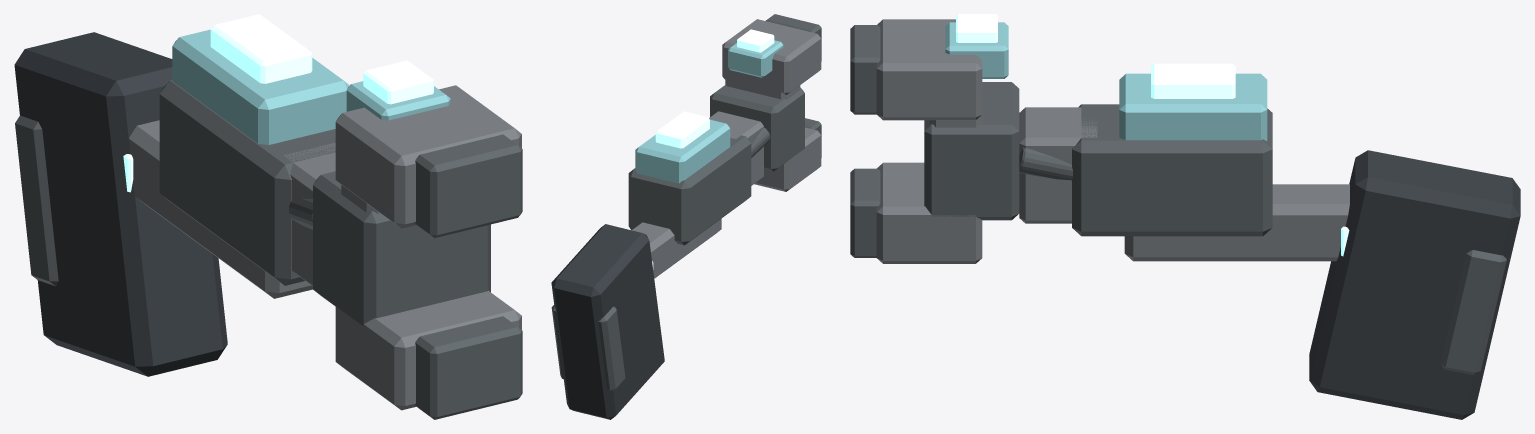
The model's file is FTF_Tool_RepairWrench_Tech_v2.glb.
The picture shows the model from 3 angles, left to right: view 1: azimuth 30°, elevation 25°; view 2: azimuth 150°, elevation 25°; view 3: azimuth 270°, elevation 25°; orthographic projection. The views are drawn at different scales.
Parts seen in each view (by area): view 1: FTF_Tool_RepairWrench_Tech_v2_Static; view 2: FTF_Tool_RepairWrench_Tech_v2_Static; view 3: FTF_Tool_RepairWrench_Tech_v2_Static.
Boxes of the visible parts, x1,y1,x2,y2 form: FTF_Tool_RepairWrench_Tech_v2_Static: (14,14,522,419); FTF_Tool_RepairWrench_Tech_v2_Static: (551,14,821,419); FTF_Tool_RepairWrench_Tech_v2_Static: (850,14,1520,419).
Bounding box in the file's own units: 0.22 × 0.8041 × 1.27.
